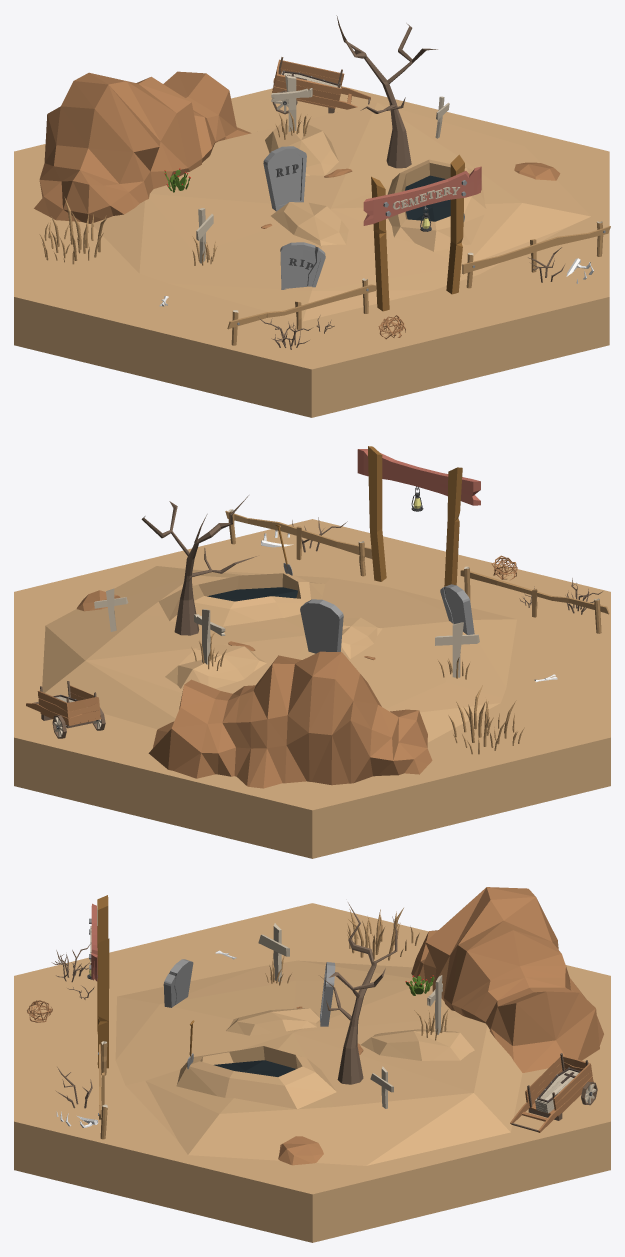
Rendered from Tile_14.fbx.
3 views of the same model, one above another, from view 1: azimuth 30°, elevation 25°; view 2: azimuth 150°, elevation 25°; view 3: azimuth 270°, elevation 25° (orthographic).
Visible parts, largest first — view 1: Tile_14_Base, Tile_14, Tile_14_Gate_Cemetery, Tile_14_Pit, Tile_14_Cart, Tile_14_Pile_of_earth, Tile_14_Grass; view 2: Tile_14_Base, Tile_14, Tile_14_Gate_Cemetery, Tile_14_Pit, Tile_14_Cart, Tile_14_Grass, Tile_14_Pile_of_earth; view 3: Tile_14_Base, Tile_14, Tile_14_Pit, Tile_14_Cart, Tile_14_Gate_Cemetery, Tile_14_Pile_of_earth, Tile_14_Grass, Tile_14_Coffin.
Part boxes in pixels (box(x1,y1,x2,y2)): Tile_14_Base: box(14, 86, 609, 417); Tile_14: box(34, 15, 610, 349); Tile_14_Gate_Cemetery: box(363, 154, 481, 311); Tile_14_Pit: box(387, 159, 486, 251); Tile_14_Cart: box(272, 57, 370, 114); Tile_14_Pile_of_earth: box(271, 202, 348, 245); Tile_14_Grass: box(39, 197, 106, 264); Tile_14_Base: box(14, 519, 610, 858); Tile_14: box(141, 495, 609, 788); Tile_14_Gate_Cemetery: box(357, 446, 480, 586); Tile_14_Pit: box(158, 573, 321, 626); Tile_14_Cart: box(26, 681, 105, 738); Tile_14_Grass: box(448, 685, 524, 754); Tile_14_Pile_of_earth: box(341, 617, 381, 658); Tile_14_Base: box(14, 903, 610, 1242); Tile_14: box(27, 887, 603, 1139); Tile_14_Pit: box(176, 1046, 336, 1109); Tile_14_Cart: box(510, 1053, 597, 1132); Tile_14_Gate_Cemetery: box(89, 895, 109, 1068); Tile_14_Pile_of_earth: box(226, 1008, 319, 1035); Tile_14_Grass: box(347, 908, 419, 960); Tile_14_Coffin: box(535, 1067, 580, 1113).
Size of the model in its own units: 2318 by 2007 by 816.
